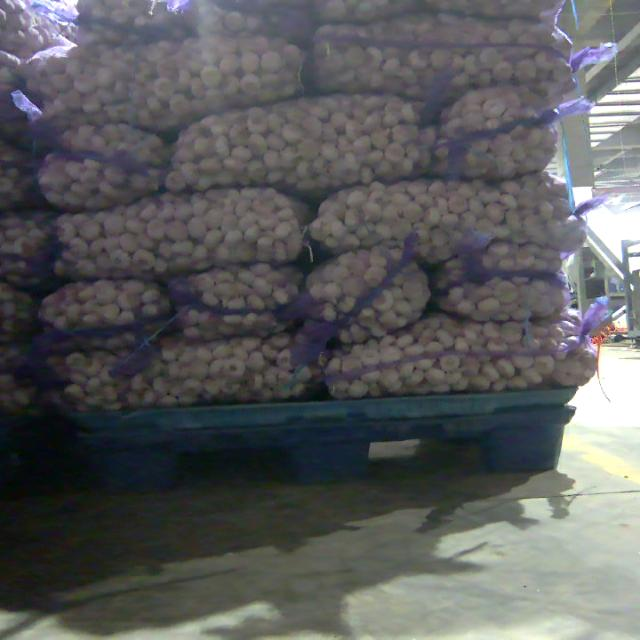block: (69, 419, 178, 495), (282, 412, 370, 484), (493, 407, 577, 469)
front: (66, 389, 579, 496)
hole pallet: (368, 438, 490, 479), (184, 449, 292, 490)
